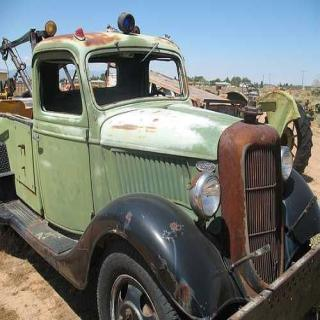Towing_truck: (0, 12, 319, 318)
